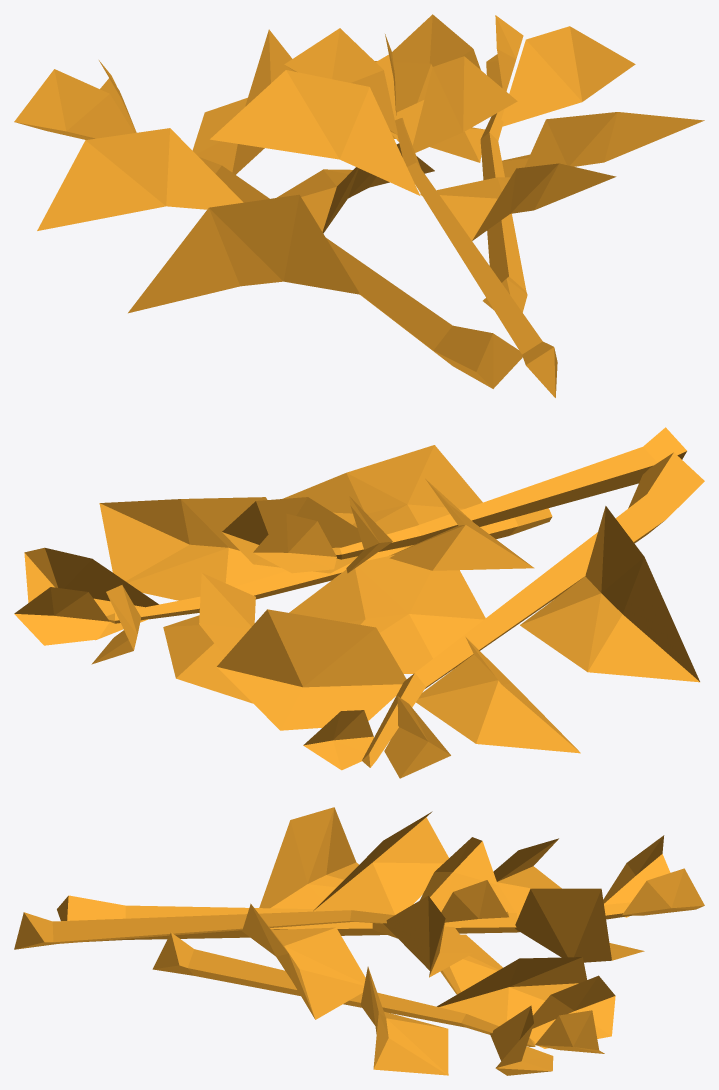
File: SM_Herbs_Fresh_A.fbx
3 renders of one model, top to bottom at view 1: azimuth 30°, elevation 25°; view 2: azimuth 150°, elevation 25°; view 3: azimuth 270°, elevation 25°, orthographic. The views are drawn at different scales.
Parts seen in each view (by area): view 1: herbs-fresh-a; view 2: herbs-fresh-a; view 3: herbs-fresh-a.
Part boxes in pixels (<box>): herbs-fresh-a: <box>14,14,704,397</box>; herbs-fresh-a: <box>14,427,704,778</box>; herbs-fresh-a: <box>14,807,704,1075</box>.
Bounding box in the file's own units: 0.2312 × 0.0625 × 0.2765.
